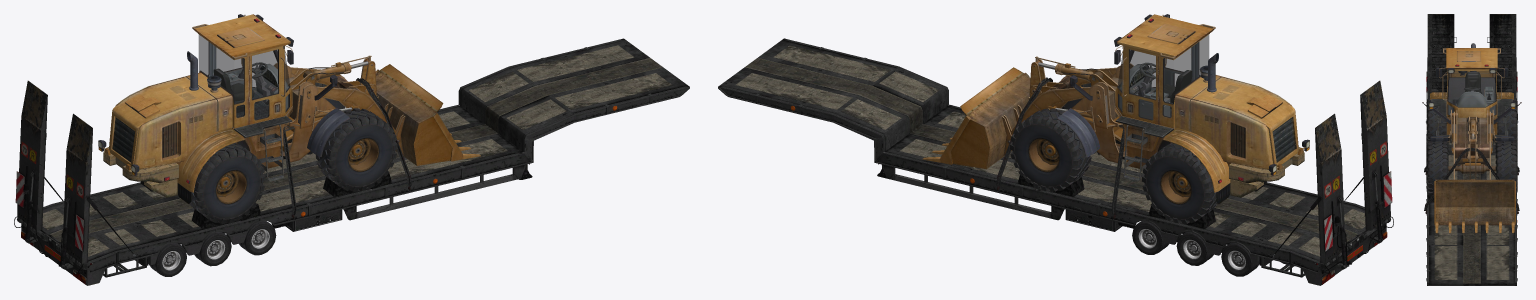
Rendered from excavator.glb.
3 views of the same model, side by side, from view 1: azimuth 30°, elevation 25°; view 2: azimuth 150°, elevation 25°; view 3: azimuth 270°, elevation 25° (orthographic). The views are drawn at different scales.
Parts seen in each view (by area): view 1: Object_6, Object_7, Object_4, Object_2, Object_5; view 2: Object_6, Object_7, Object_4, Object_2, Object_5; view 3: Object_7, Object_6, Object_4, Object_5.
Boxes of the visible parts, x1,y1,x2,y2 form: Object_6: (14,38,689,285); Object_7: (98,14,480,223); Object_4: (198,35,289,119); Object_2: (148,221,276,276); Object_5: (21,78,411,218); Object_6: (718,38,1393,285); Object_7: (922,14,1309,223); Object_4: (1117,35,1209,119); Object_2: (1132,221,1259,276); Object_5: (996,77,1387,218); Object_7: (1426,43,1517,233); Object_6: (1422,14,1521,285); Object_4: (1448,70,1496,114); Object_5: (1424,135,1519,213).
Bounding box in the file's own units: 2.5 × 0.7559 × 0.512.
Materials: 7 (7 with a texture image).
